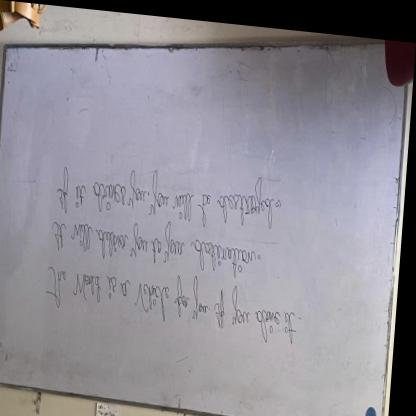Handwritten text: (39, 252, 310, 358), (49, 146, 279, 232), (54, 208, 263, 276)
Whiteboard: (0, 43, 410, 416)
